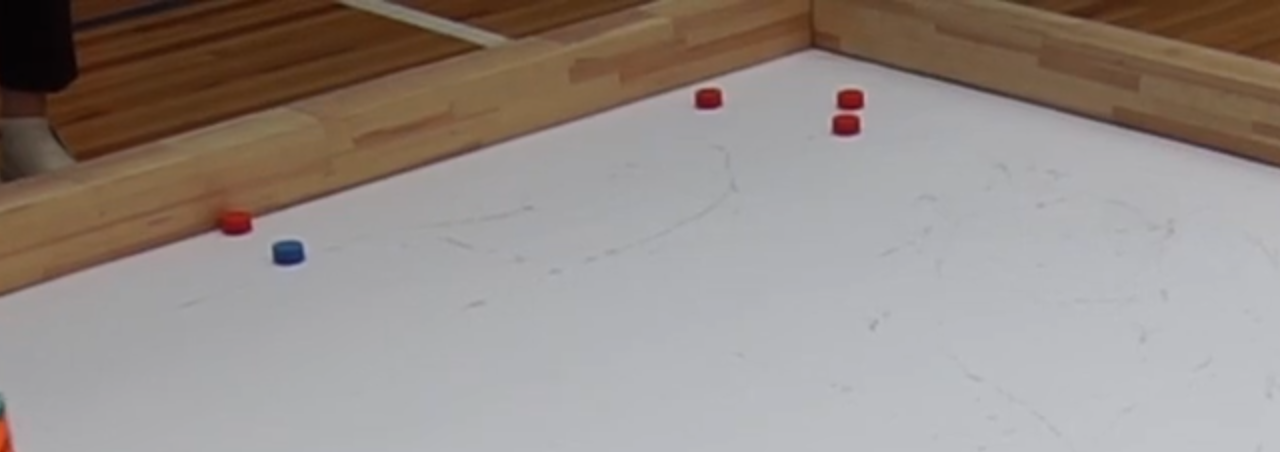blue_puck: (271, 239, 304, 264)
red_puck: (218, 209, 253, 236), (692, 87, 723, 112), (830, 115, 863, 138), (836, 87, 865, 111)
